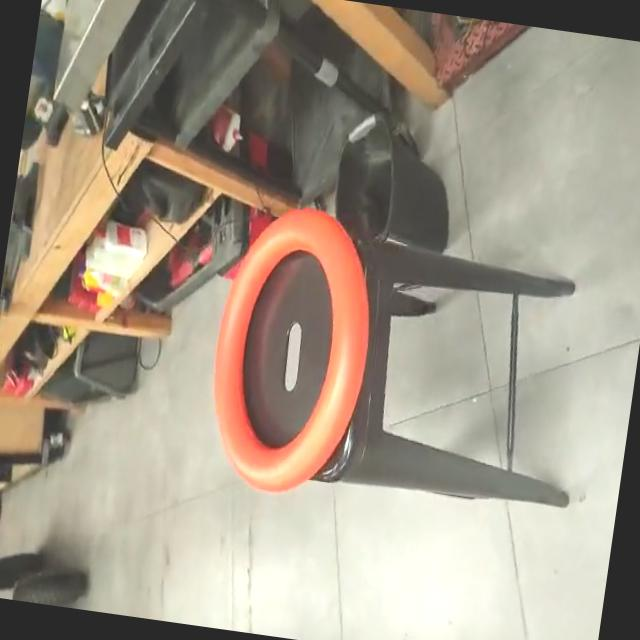note: (196, 194, 392, 508)
